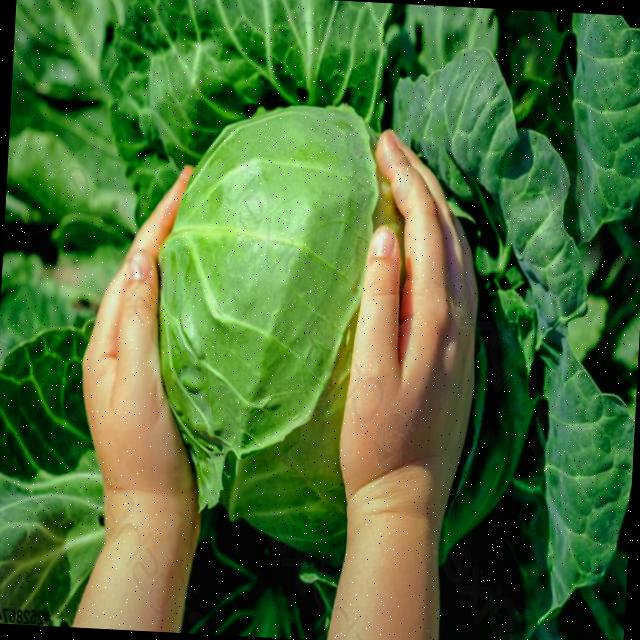cabbage: (142, 95, 472, 564)
